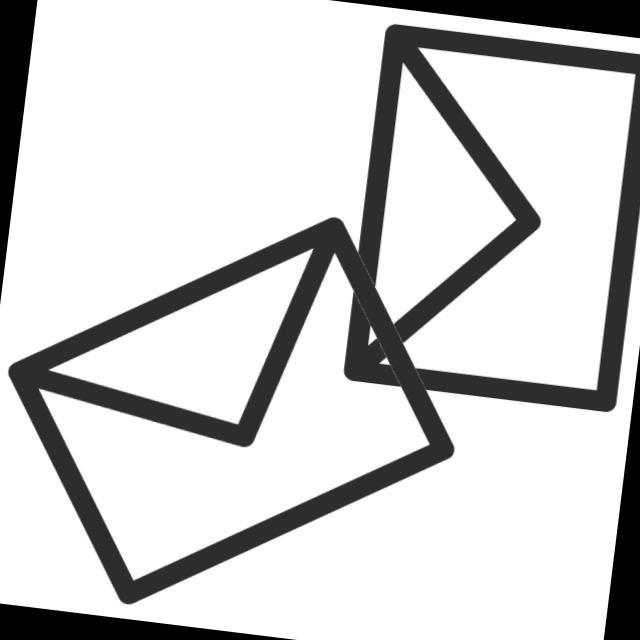letter: (1, 164, 495, 640), (323, 15, 640, 429)
